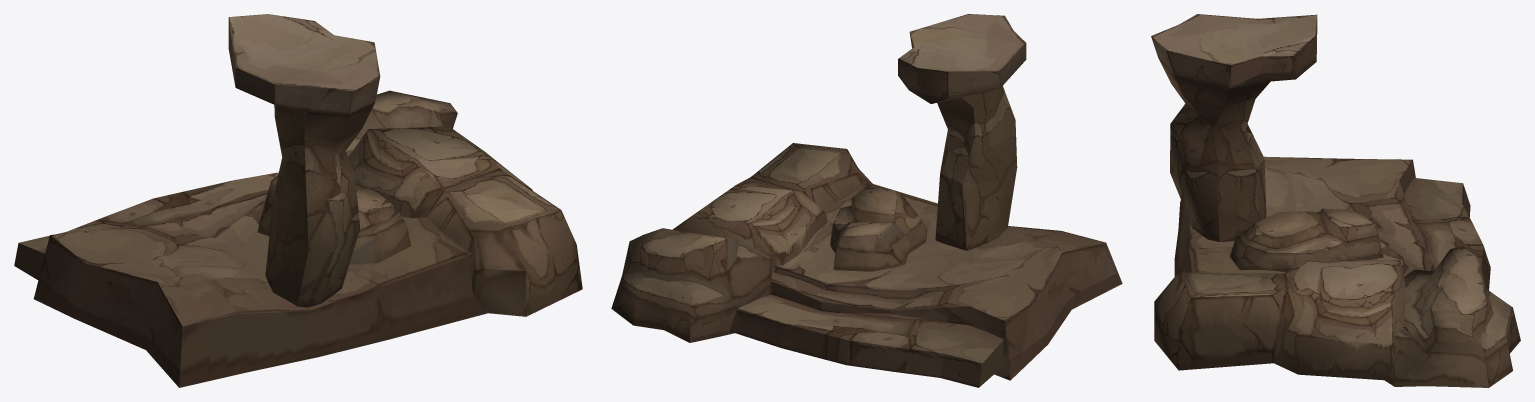
File: 2_DG_ShiKuai_01.FBX
The picture shows the model from 3 angles, left to right: view 1: azimuth 30°, elevation 25°; view 2: azimuth 150°, elevation 25°; view 3: azimuth 270°, elevation 25°; orthographic projection. The views are drawn at different scales.
Parts seen in each view (by area): view 1: 2_DG_ShiKuai_01_05, 2_DG_ShiKuai_01_01, 2_DG_ShiKuai_01_03, 2_DG_ShiKuai_01_02, 2_DG_ShiKuai_01_04; view 2: 2_DG_ShiKuai_01_05, 2_DG_ShiKuai_01_01, 2_DG_ShiKuai_01_04, 2_DG_ShiKuai_01_03, 2_DG_ShiKuai_01_02; view 3: 2_DG_ShiKuai_01_03, 2_DG_ShiKuai_01_01, 2_DG_ShiKuai_01_05, 2_DG_ShiKuai_01_04, 2_DG_ShiKuai_01_02.
Boxes of the visible parts, bbox=[...] form: 2_DG_ShiKuai_01_05: bbox=[14, 172, 487, 387]; 2_DG_ShiKuai_01_01: bbox=[228, 14, 380, 307]; 2_DG_ShiKuai_01_03: bbox=[348, 126, 582, 316]; 2_DG_ShiKuai_01_02: bbox=[257, 175, 410, 264]; 2_DG_ShiKuai_01_04: bbox=[345, 90, 457, 156]; 2_DG_ShiKuai_01_05: bbox=[730, 181, 1122, 387]; 2_DG_ShiKuai_01_01: bbox=[898, 14, 1026, 250]; 2_DG_ShiKuai_01_04: bbox=[611, 228, 772, 342]; 2_DG_ShiKuai_01_03: bbox=[673, 143, 872, 271]; 2_DG_ShiKuai_01_02: bbox=[830, 184, 927, 271]; 2_DG_ShiKuai_01_03: bbox=[1154, 260, 1405, 380]; 2_DG_ShiKuai_01_01: bbox=[1151, 14, 1317, 241]; 2_DG_ShiKuai_01_05: bbox=[1174, 156, 1490, 290]; 2_DG_ShiKuai_01_04: bbox=[1385, 246, 1520, 387]; 2_DG_ShiKuai_01_02: bbox=[1230, 208, 1383, 271].
Bounding box in the file's own units: 2022 × 1285 × 1707.
1 material, 1 textured.
